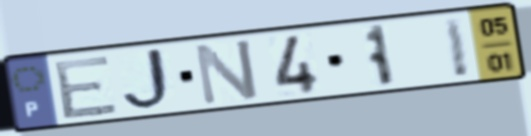1: (361, 21, 399, 90)
4: (271, 32, 323, 96)
E: (51, 52, 123, 122)
I: (439, 14, 473, 82)
J: (120, 45, 181, 115)
N: (191, 36, 263, 108)
